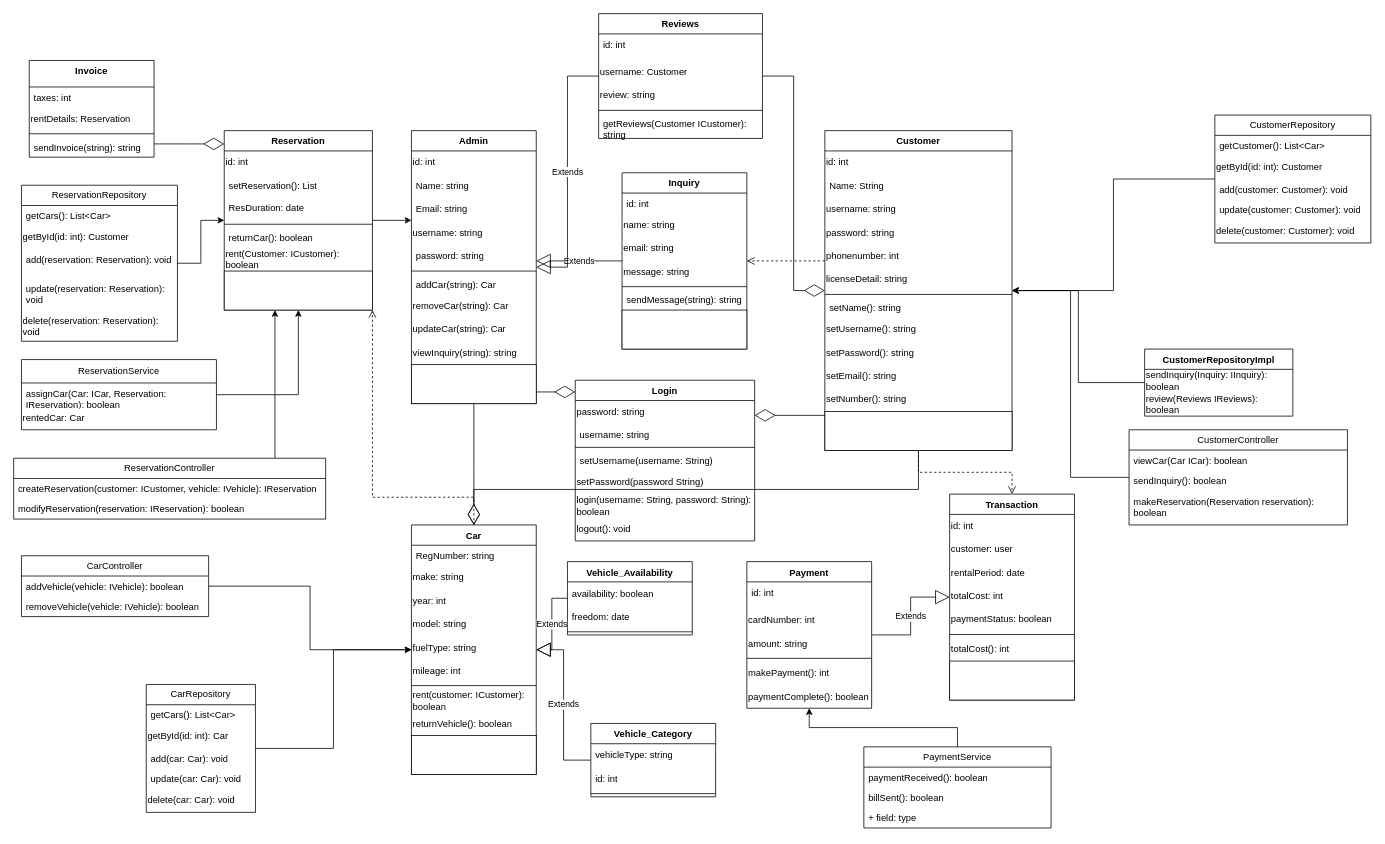
This 1385x844 diagram has some shape labels left out. Here are the shapes that lost their labels. From the top down, the centre of each, then its label:
pixel 297 290: «interface» IReservation
pixel 684 329: «interface» IInquiry
pixel 473 384: «interface» IAdmin
pixel 918 430: «interface» ICustomer
pixel 1011 680: «interface» ITransaction
pixel 473 755: «interface» ICar
